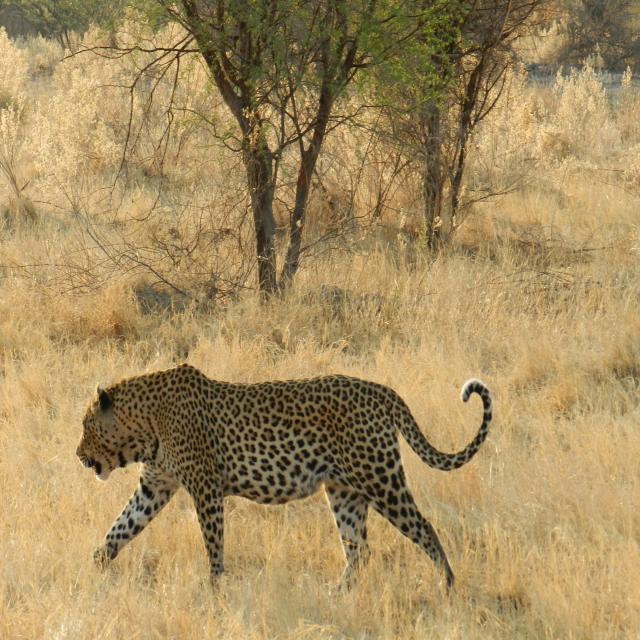Leopard: (70, 346, 506, 604)
